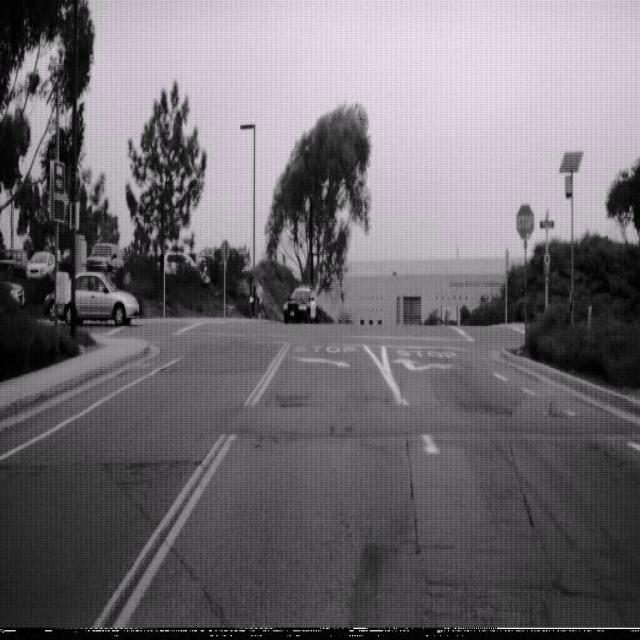stop_sign: (515, 202, 535, 243)
